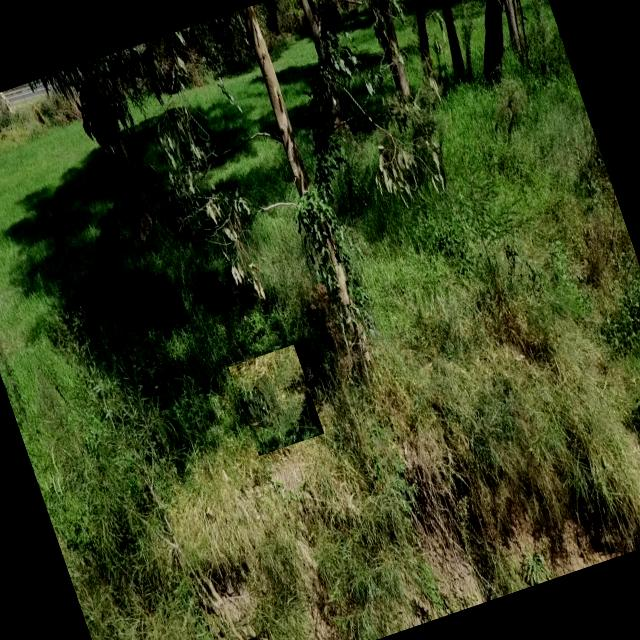Mysore-Thorn-Weed: (228, 344, 324, 456)
